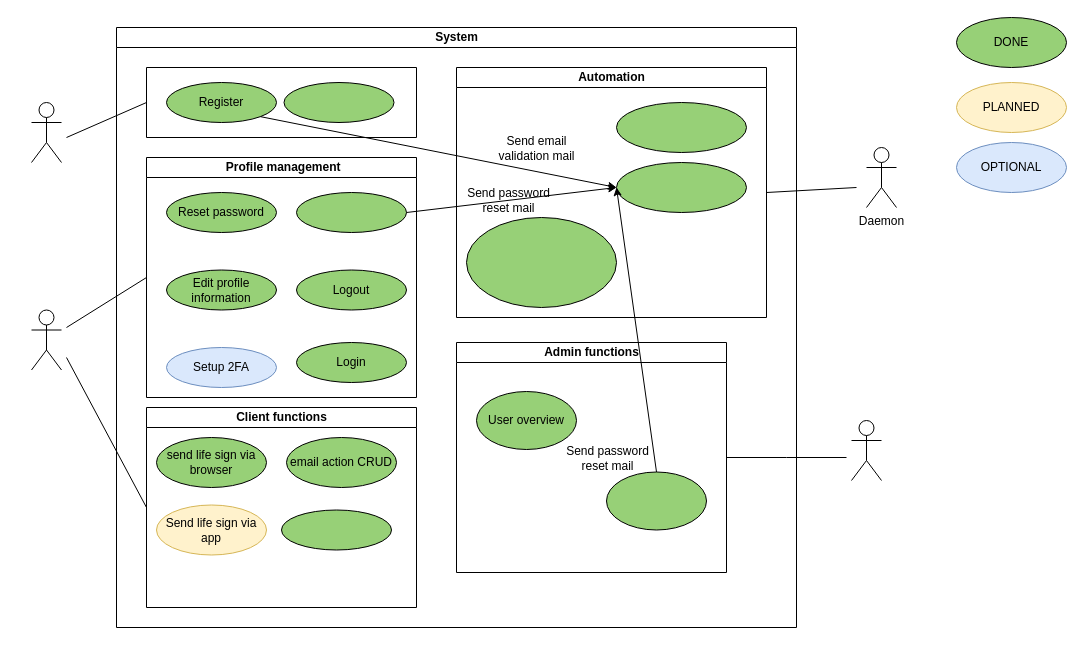
The diagram is 1084 pixels wide and 645 high, and some of its shapes have lost their labels. Each missing label, with the centre of its shape:
Accept invitation email: (x=338, y=102)
Admin: (x=866, y=450)
Connect IFTTT: (x=336, y=529)
Guest: (x=46, y=132)
Registered User: (x=46, y=339)
Request password reset: (x=351, y=212)
Request password reset for User: (x=656, y=500)
Run SignOfLifeDaemon (Trigger actions on death, Send sign of life reminder): (x=541, y=262)
send custom emails: (x=681, y=187)
Trigger IFTTT: (x=681, y=127)
